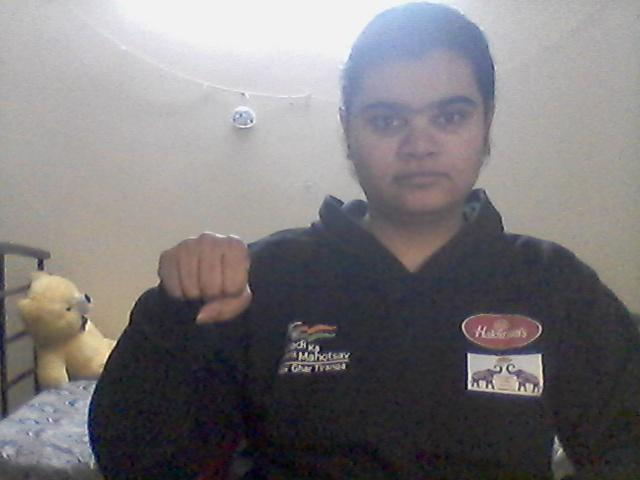yes: (146, 231, 264, 320)
